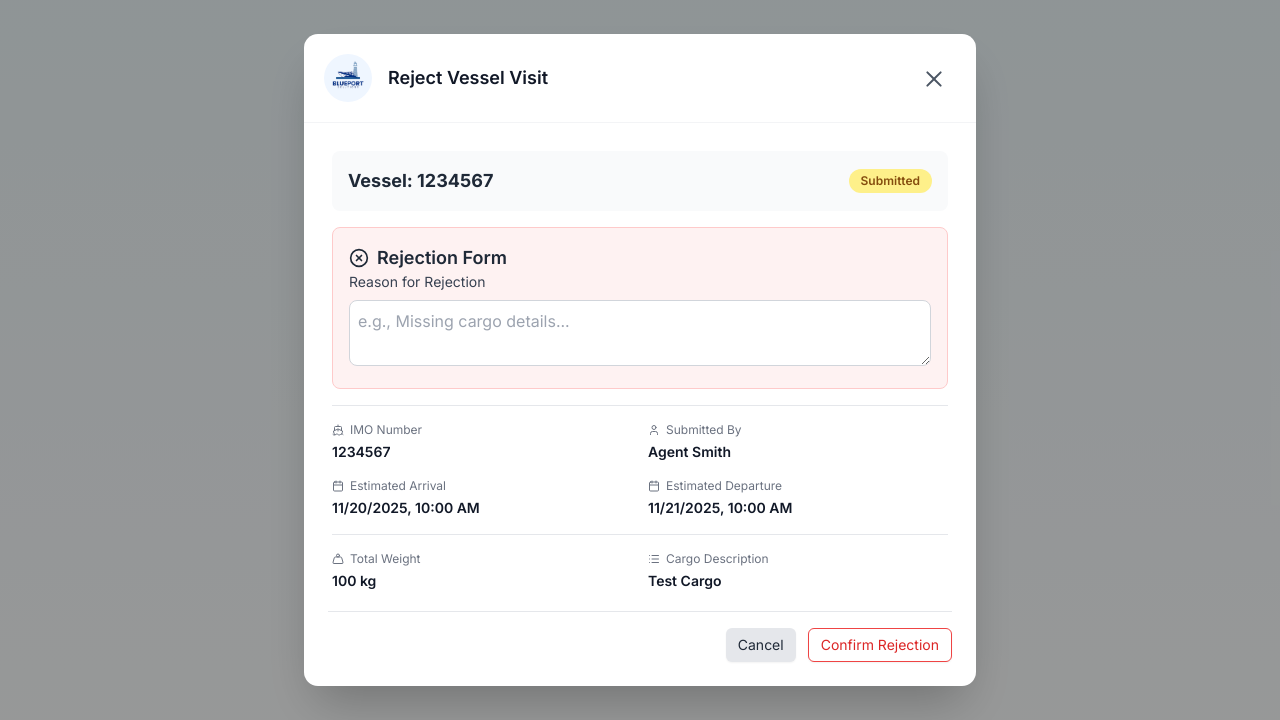
Test: VvnDecisionModal › validates rejection form (requires reason)
Step 1. Click the button "Confirm Rejection" → coordinates (880, 645), box 808,628 -> 952,662
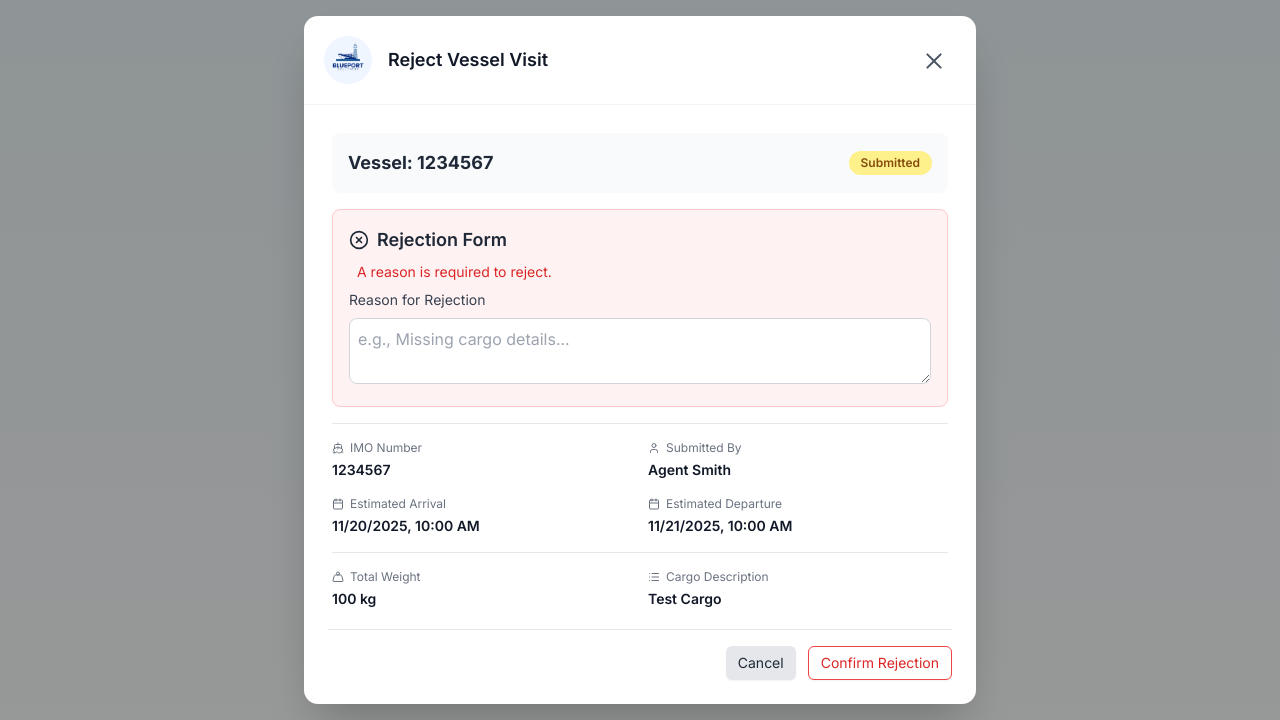
Expected: the text "A reason is required to reject." is shown, 357,263 -> 552,280
